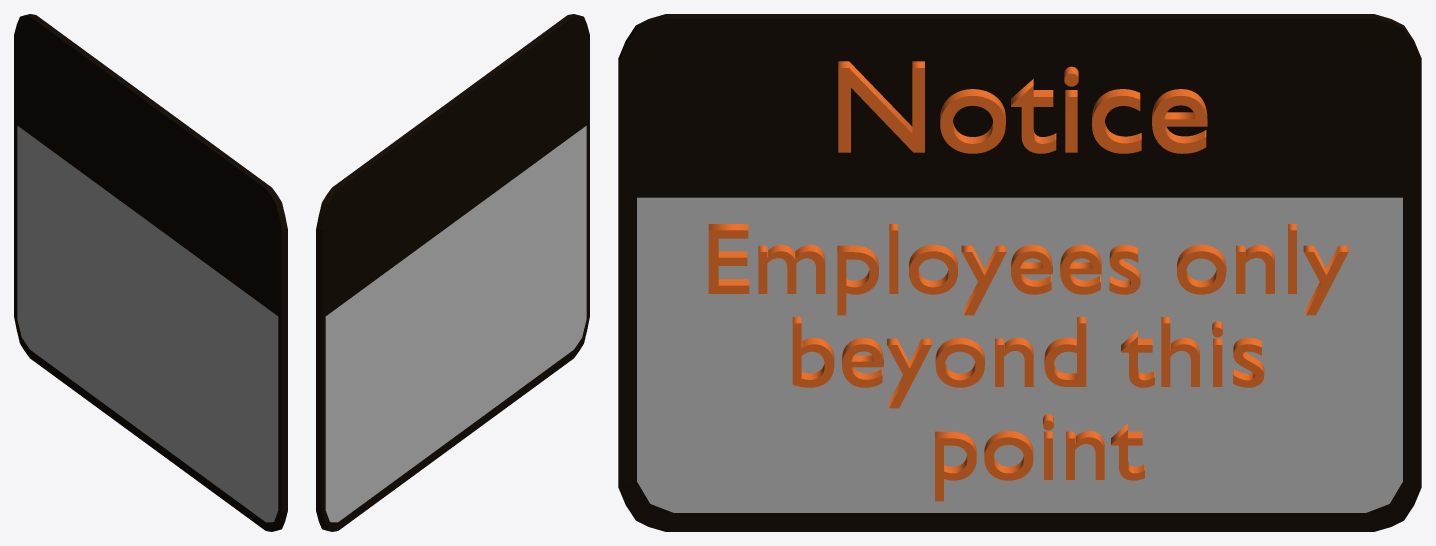
Rendered from employeesonly.fbx.
3 renders of one model, left to right at view 1: azimuth 30°, elevation 25°; view 2: azimuth 150°, elevation 25°; view 3: azimuth 270°, elevation 25°, orthographic. The views are drawn at different scales.
Parts seen in each view (by area): view 1: Cube; view 2: Cube; view 3: Cube, Text.001, Text.
Part boxes in pixels (box(x1,y1,x2,y2)): Cube: box(14, 14, 287, 531); Cube: box(316, 14, 589, 531); Cube: box(618, 14, 1421, 531); Text.001: box(708, 224, 1348, 501); Text: box(838, 61, 1207, 153).
Size of the model in its own units: 6.72 by 141 by 200.
